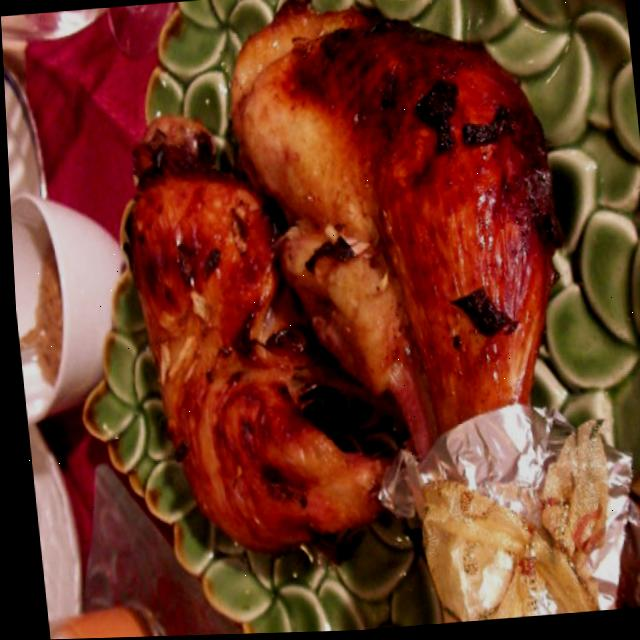鸡肉料理 含炸鸡: (107, 0, 594, 587)
